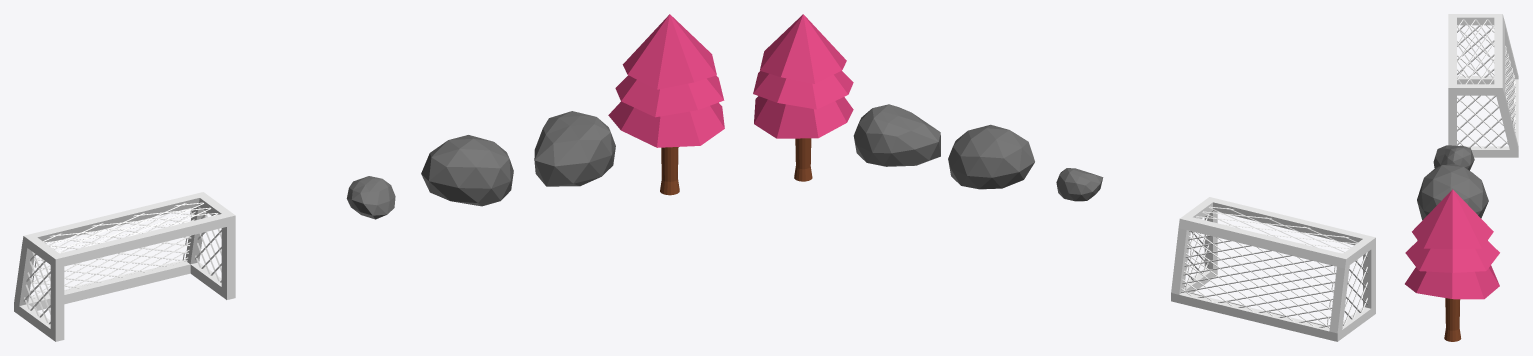
File: demo3.fbx
3 views of the same model, side by side, from view 1: azimuth 30°, elevation 25°; view 2: azimuth 150°, elevation 25°; view 3: azimuth 270°, elevation 25° (orthographic). The views are drawn at different scales.
Parts seen in each view (by area): view 1: Kale, Cylinder, Taş, Taş2, Taş1; view 2: Kale, Cylinder, Taş, Taş2, Taş1; view 3: Cylinder, Kale, Taş, Taş1.
Part boxes in pixels (x1,y1,x2,y2): Kale: (14,192,235,341); Cylinder: (608,14,724,195); Taş: (421,135,513,206); Taş2: (534,111,615,186); Taş1: (346,176,395,219); Kale: (1171,197,1375,341); Cylinder: (753,14,853,181); Taş: (948,124,1034,189); Taş2: (853,104,940,166); Taş1: (1056,168,1103,201); Cylinder: (1405,189,1499,341); Kale: (1448,14,1518,157); Taş: (1417,164,1488,220); Taş1: (1433,145,1474,170).
Size of the model in its own units: 2968 by 751 by 520.
